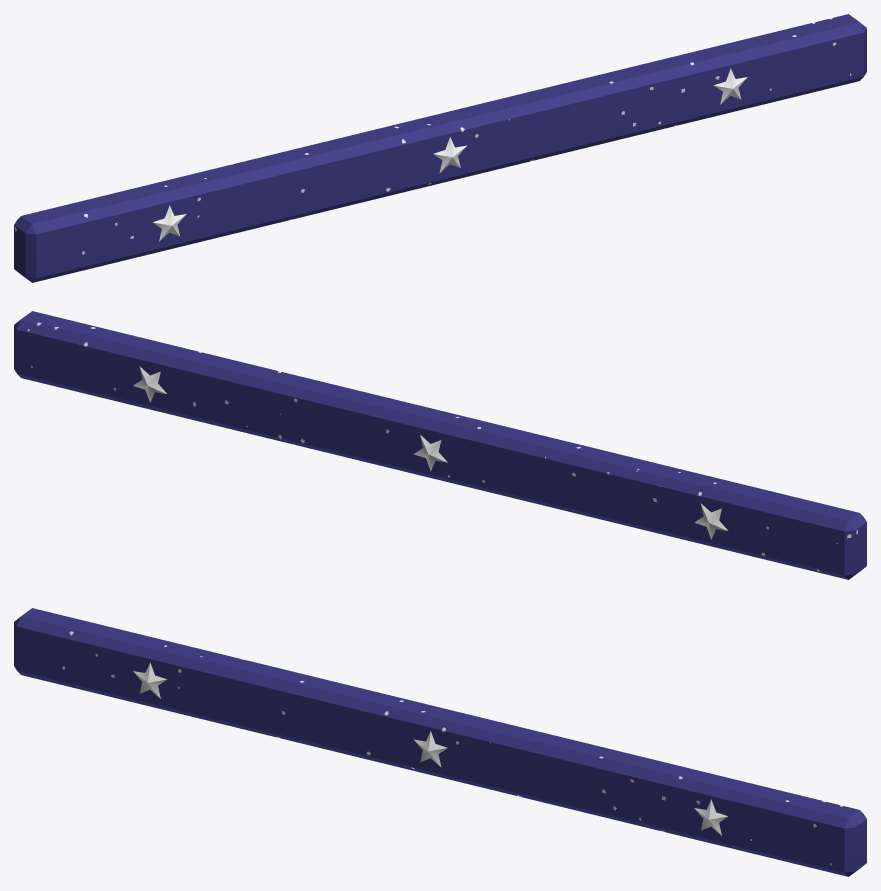
Rendered from fence_starlit_rail.fbx.
The picture shows the model from 3 angles, top to bottom: view 1: azimuth 30°, elevation 25°; view 2: azimuth 150°, elevation 25°; view 3: azimuth 330°, elevation 25°; orthographic projection.
Parts seen in each view (by area): view 1: fence_starlit_rail; view 2: fence_starlit_rail; view 3: fence_starlit_rail.
Boxes of the visible parts, box(x1,y1,x2,y2) form: fence_starlit_rail: box(14, 14, 866, 282); fence_starlit_rail: box(14, 311, 866, 579); fence_starlit_rail: box(14, 608, 866, 876).
Bounding box in the file's own units: 600 × 40 × 30.
Materials: 1 (1 with a texture image).
